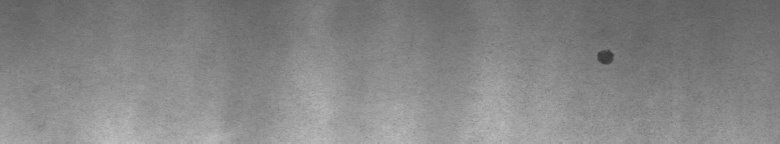fi: (592, 40, 620, 72)
